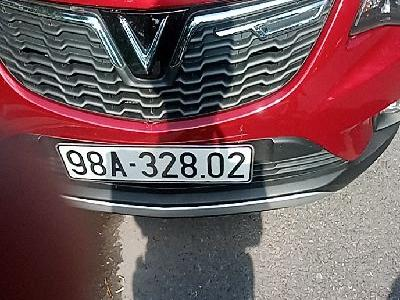lisence: (55, 143, 255, 184)
